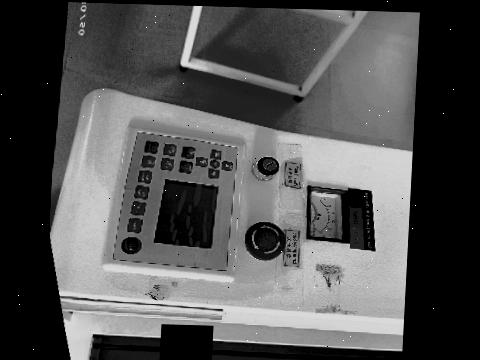Amp_Meter: (308, 187, 346, 242)
Display: (153, 180, 217, 249)
Down_button: (194, 157, 207, 167)
Emergency_Stop: (244, 222, 286, 261)
Enter_button: (181, 146, 194, 159)
Esc_button: (178, 161, 192, 173)
File_button: (140, 155, 155, 168)
Frame_button: (162, 144, 176, 156)
Left_button: (207, 169, 218, 179)
Max-Power_button: (137, 170, 152, 183)
Min-Power_button: (133, 185, 148, 199)
Origin_button: (159, 158, 173, 171)
Power_switch: (251, 157, 278, 181)
Pulse_button: (126, 218, 142, 233)
Reset_button: (121, 237, 141, 254)
Right_button: (210, 150, 221, 159)
Speed_button: (130, 201, 145, 216)
Start-Pause_button: (143, 141, 158, 153)
Up_button: (221, 161, 232, 171)
Z_U_button: (209, 160, 219, 168)
